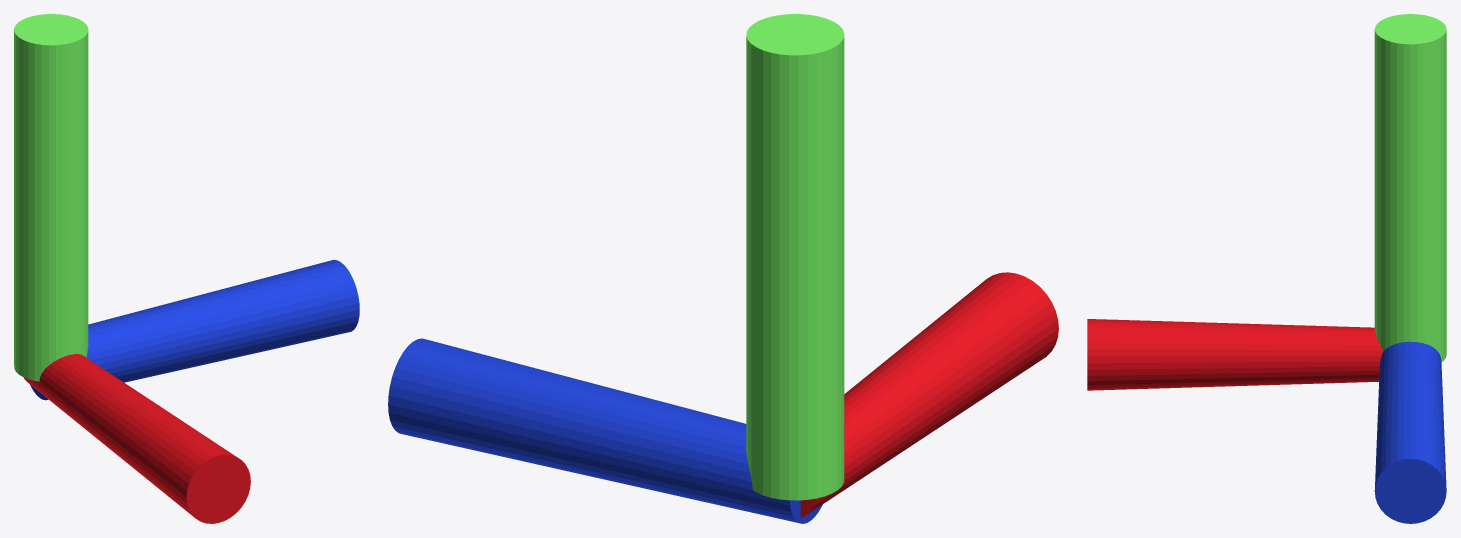
The model's file is axis.fbx.
3 views of the same model, side by side, from view 1: azimuth 30°, elevation 25°; view 2: azimuth 150°, elevation 25°; view 3: azimuth 270°, elevation 25° (orthographic). The views are drawn at different scales.
Visible parts, largest first — view 1: Cylinder, Cylinder.002, Cylinder.001; view 2: Cylinder, Cylinder.002, Cylinder.001; view 3: Cylinder, Cylinder.001, Cylinder.002.
Part boxes in pixels (x1=…): Cylinder: x1=14, y1=14, x2=88, y2=381; Cylinder.002: x1=30, y1=259, x2=359, y2=400; Cylinder.001: x1=23, y1=354, x2=250, y2=523; Cylinder: x1=746, y1=14, x2=844, y2=500; Cylinder.002: x1=388, y1=338, x2=822, y2=523; Cylinder.001: x1=800, y1=272, x2=1058, y2=517; Cylinder: x1=1374, y1=14, x2=1446, y2=362; Cylinder.001: x1=1087, y1=319, x2=1382, y2=390; Cylinder.002: x1=1374, y1=341, x2=1446, y2=523.
Size of the model in its own units: 400 by 440 by 400.
